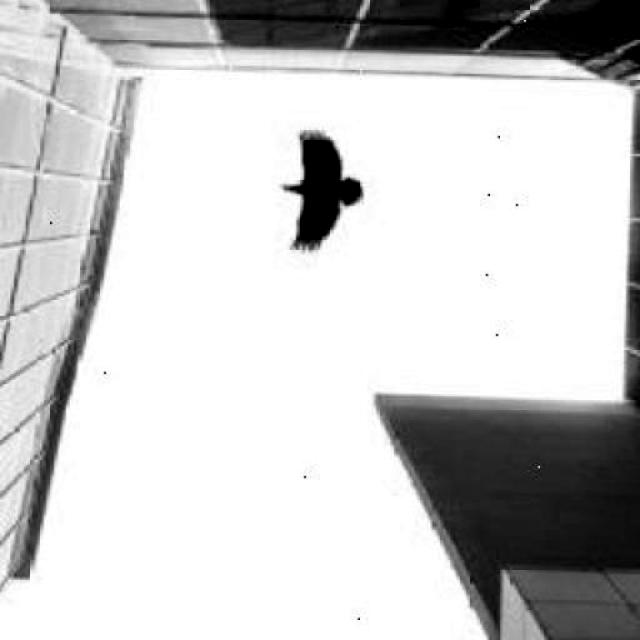airplane: (274, 128, 364, 255)
